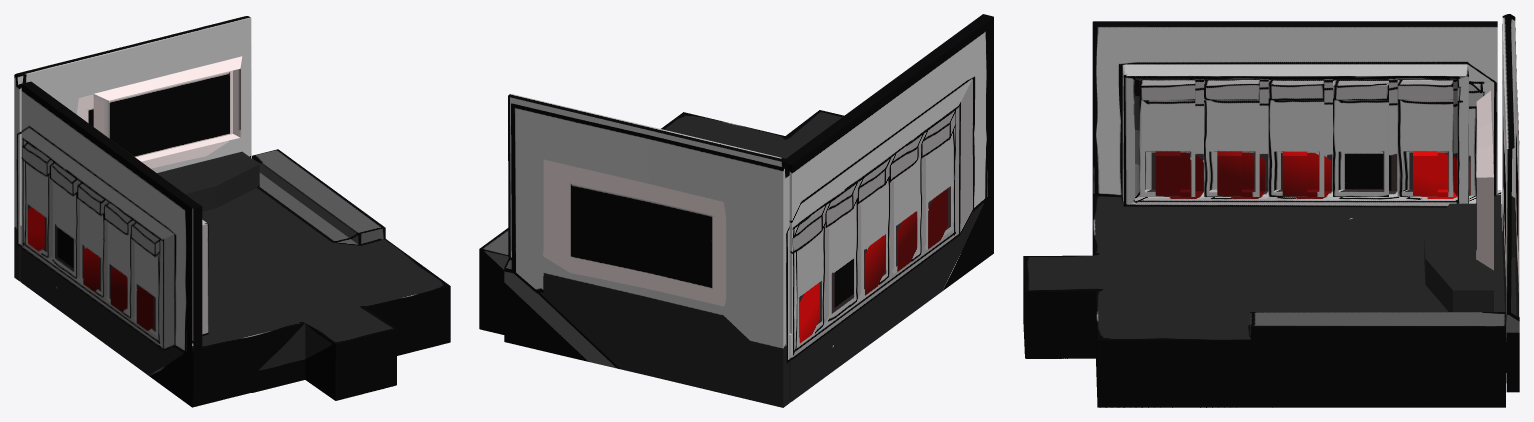
File: комнгата3.fbx
3 renders of one model, left to right at view 1: azimuth 30°, elevation 25°; view 2: azimuth 150°, elevation 25°; view 3: azimuth 270°, elevation 25°, orthographic. The views are drawn at different scales.
Visible parts, largest first — view 1: Cube.016; view 2: Cube.016; view 3: Cube.016.
Part boxes in pixels (x1=…): Cube.016: x1=14, y1=16, x2=450, y2=407; Cube.016: x1=479, y1=14, x2=993, y2=407; Cube.016: x1=1023, y1=14, x2=1519, y2=407.
Bounding box in the file's own units: 479 × 361 × 666.
1 material, 1 textured.
